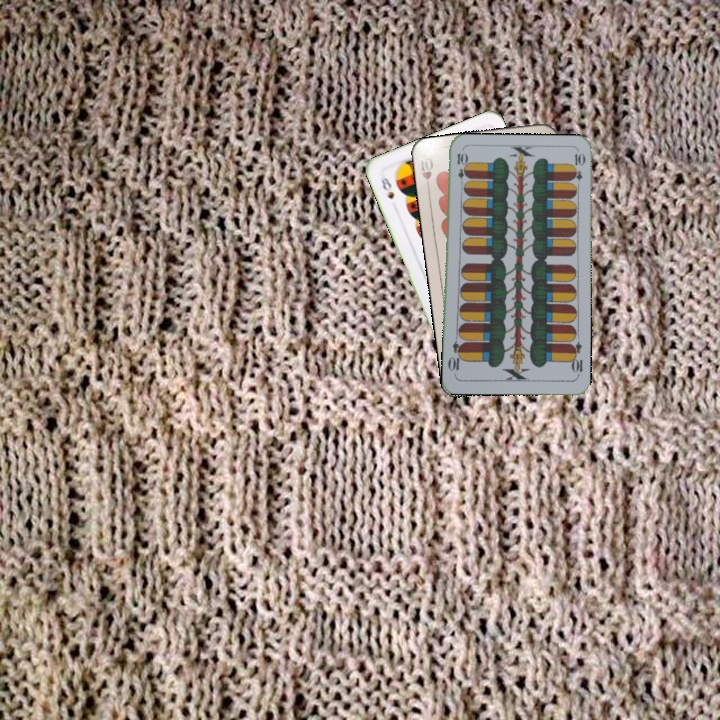E10: (566, 338, 585, 379), (453, 149, 467, 189)
H10: (415, 153, 436, 193)
S8: (376, 171, 397, 202)
